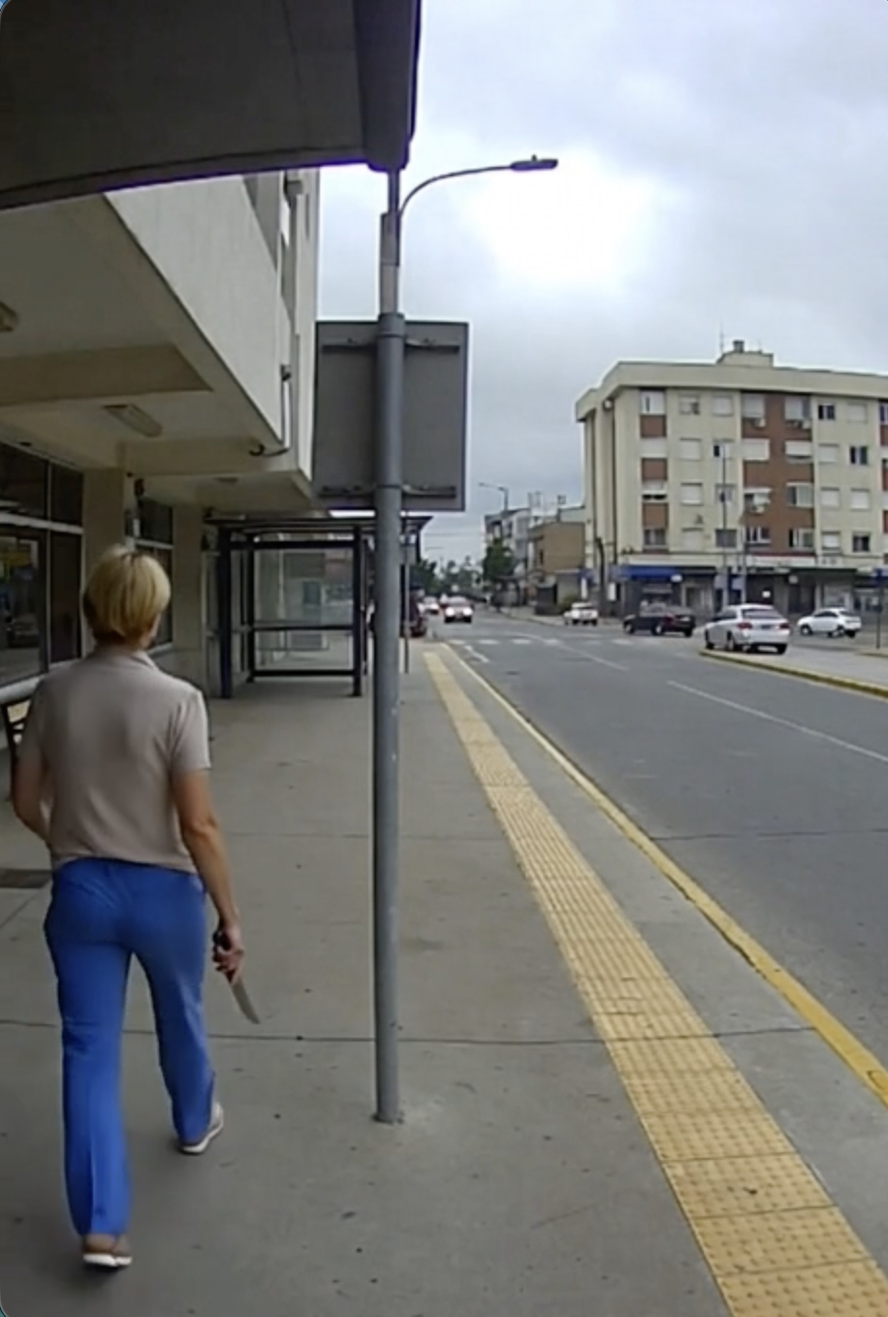Heavy Gun: (10, 534, 254, 1284)
Knife: (206, 927, 263, 1024)
